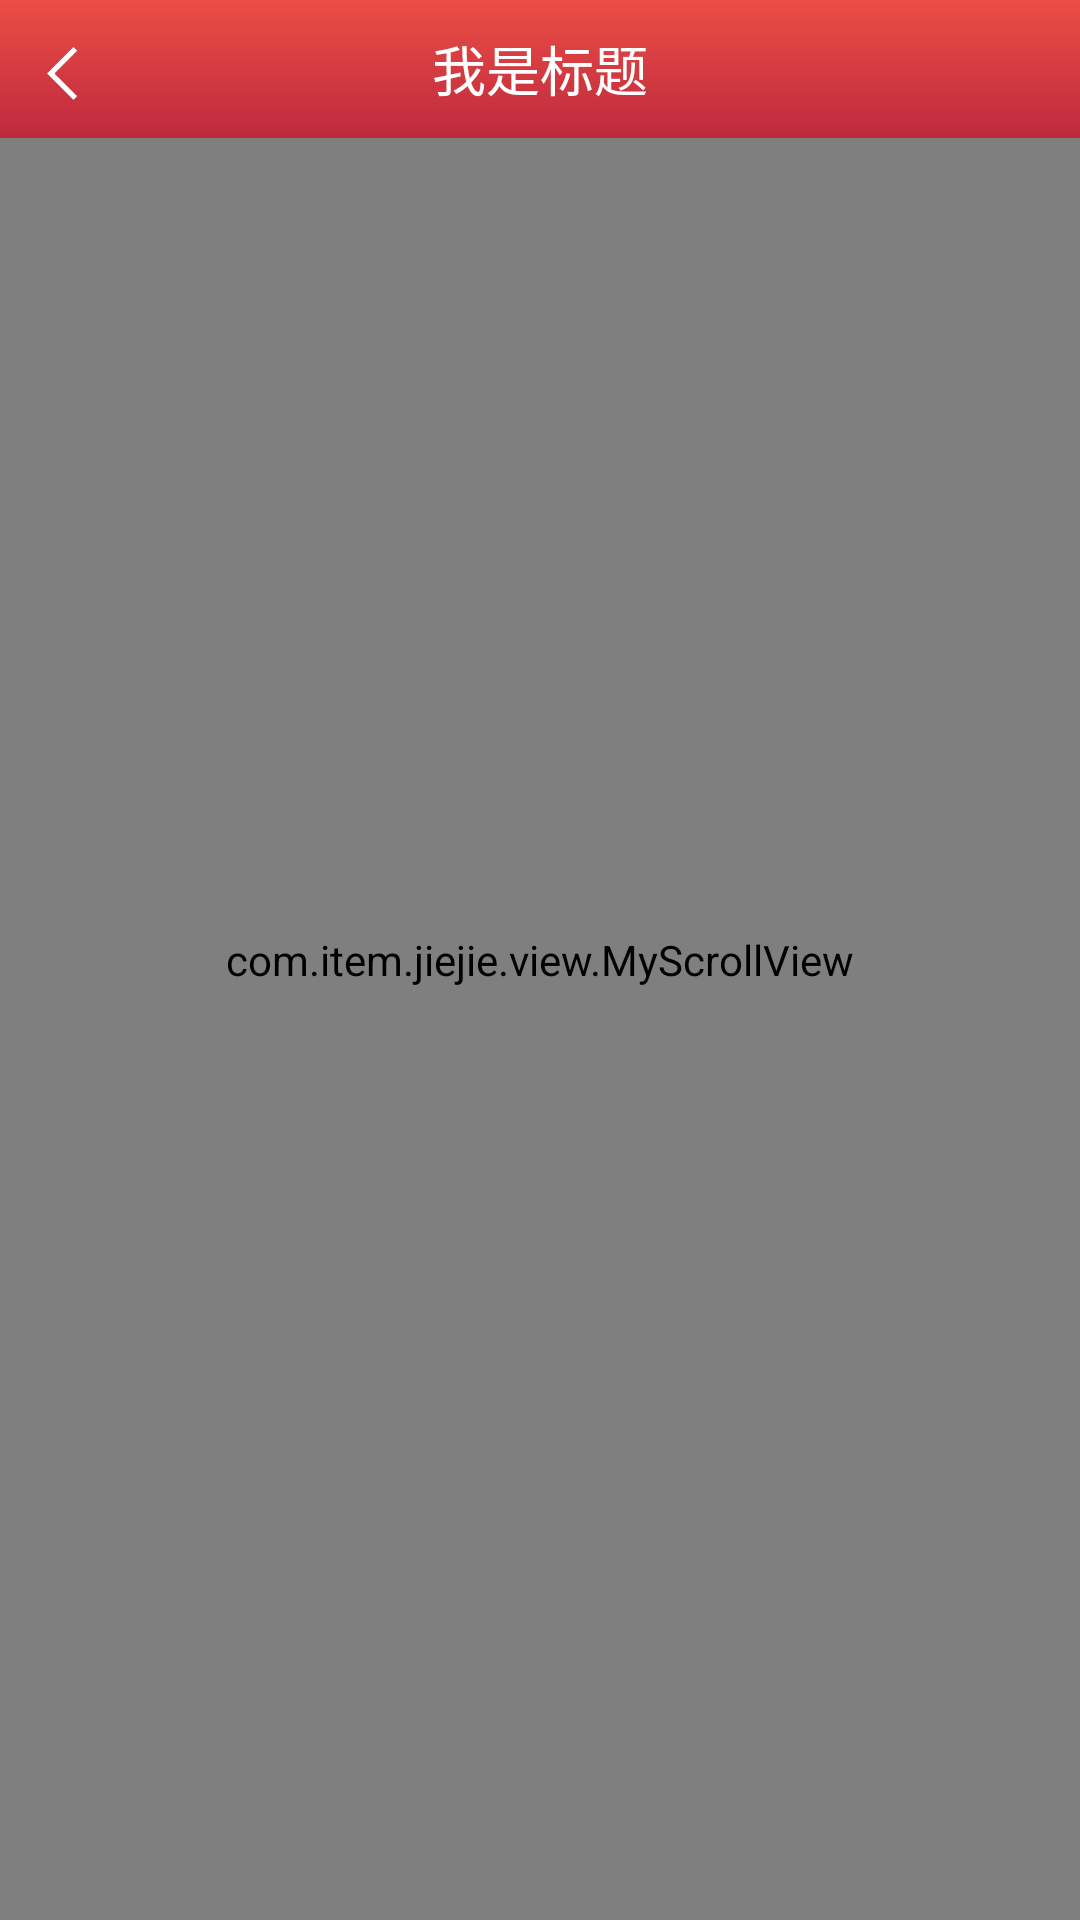

Where to tap for icons on this 1080 × 1920 app screen, as (x=x, y=y):
bar back: (x=69, y=69)
